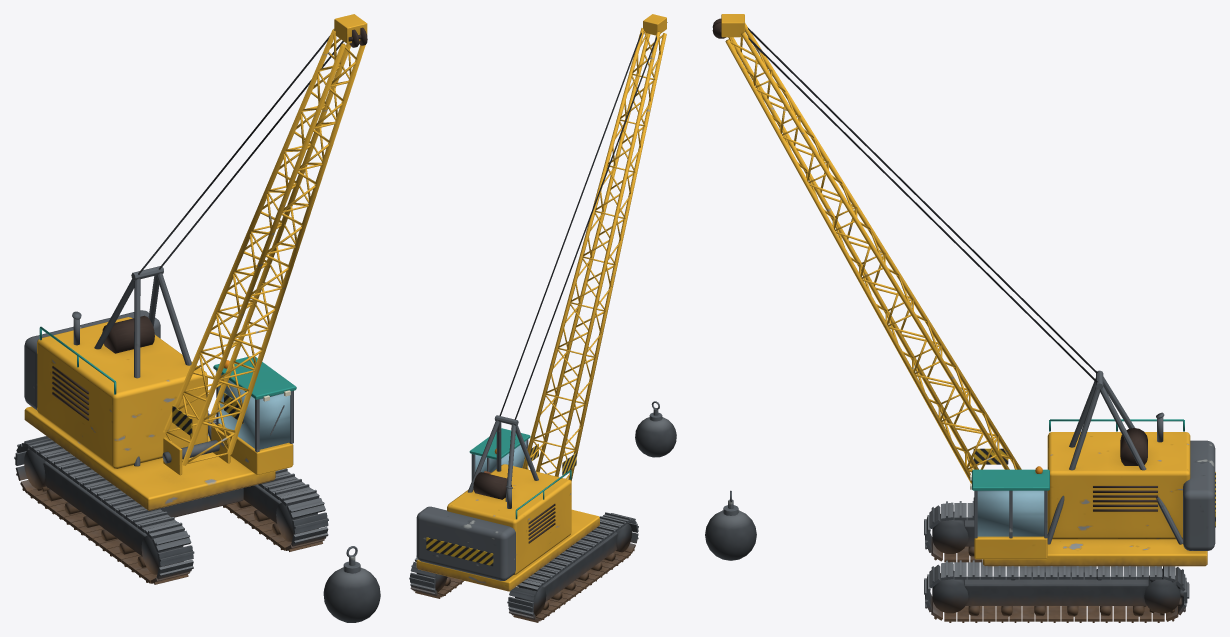
File: Works_WreckingCrane.fbx
3 renders of one model, left to right at view 1: azimuth 30°, elevation 25°; view 2: azimuth 150°, elevation 25°; view 3: azimuth 270°, elevation 25°, orthographic. The views are drawn at different scales.
Visible parts, largest first — view 1: Cab, Boom, Body, Ball, BoomTip; view 2: Cab, Boom, Body, Ball, BoomTip; view 3: Cab, Body, Boom, Ball, BoomTip.
Boxes of the visible parts, x1=… form: Cab: x1=24, y1=266, x2=296, y2=510; Boom: x1=138, y1=29, x2=365, y2=475; Body: x1=14, y1=411, x2=328, y2=584; Ball: x1=323, y1=546, x2=380, y2=622; BoomTip: x1=334, y1=14, x2=367, y2=47; Cab: x1=416, y1=415, x2=599, y2=591; Boom: x1=499, y1=28, x2=666, y2=481; Body: x1=409, y1=512, x2=638, y2=622; Ball: x1=635, y1=401, x2=676, y2=457; BoomTip: x1=643, y1=14, x2=667, y2=35; Cab: x1=970, y1=370, x2=1215, y2=566; Body: x1=924, y1=501, x2=1189, y2=622; Boom: x1=725, y1=23, x2=1097, y2=483; Ball: x1=705, y1=490, x2=756, y2=560; BoomTip: x1=712, y1=14, x2=744, y2=38.
Size of the model in its own units: 4.04 by 14.48 by 11.81.
1 material, 1 textured.
